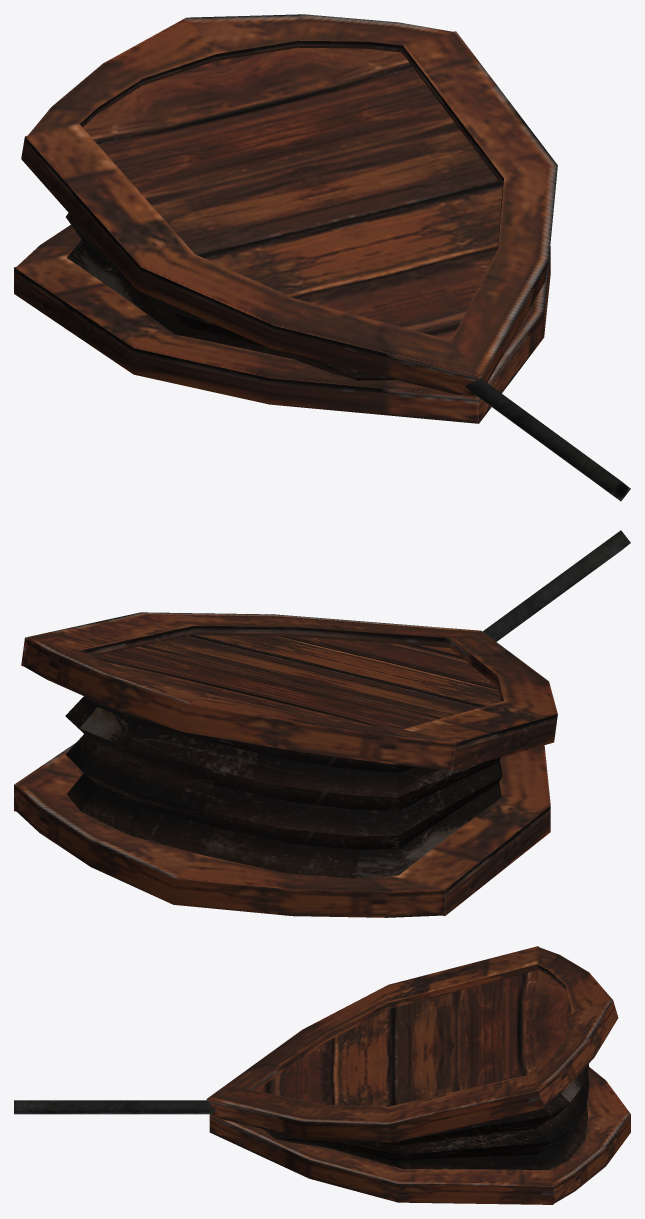
File: bellow.FBX
3 views of the same model, one above another, from view 1: azimuth 30°, elevation 25°; view 2: azimuth 150°, elevation 25°; view 3: azimuth 270°, elevation 25° (orthographic). The views are drawn at different scales.
Visible parts, largest first — view 1: bellow; view 2: bellow; view 3: bellow.
Part boxes in pixels (x1,y1,x2,y2): bellow: (14, 14, 630, 501); bellow: (14, 530, 630, 917); bellow: (14, 946, 630, 1204).
Bounding box in the file's own units: 84.87 × 153 × 36.11.
